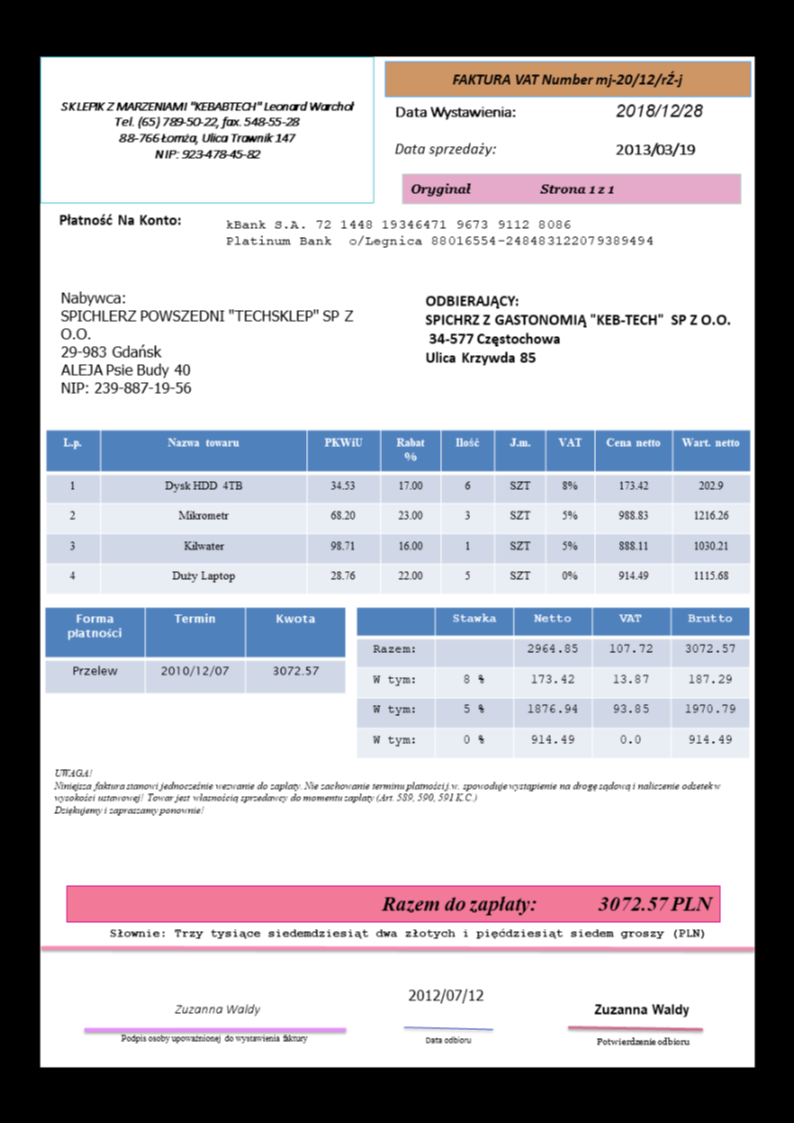Table: (43, 425, 752, 596), (354, 603, 752, 759), (43, 603, 347, 694)
TextBox: (51, 764, 725, 818), (58, 287, 356, 397), (420, 291, 733, 368), (58, 97, 358, 163), (222, 215, 656, 249), (106, 925, 707, 941), (377, 890, 716, 917), (449, 70, 686, 89), (408, 179, 617, 200), (117, 1029, 311, 1045), (392, 100, 518, 123), (389, 137, 500, 159), (613, 99, 705, 123), (56, 211, 185, 228), (590, 998, 692, 1018), (594, 1031, 691, 1050), (169, 998, 263, 1017), (402, 984, 485, 1005), (611, 140, 698, 159), (421, 1030, 474, 1048)
